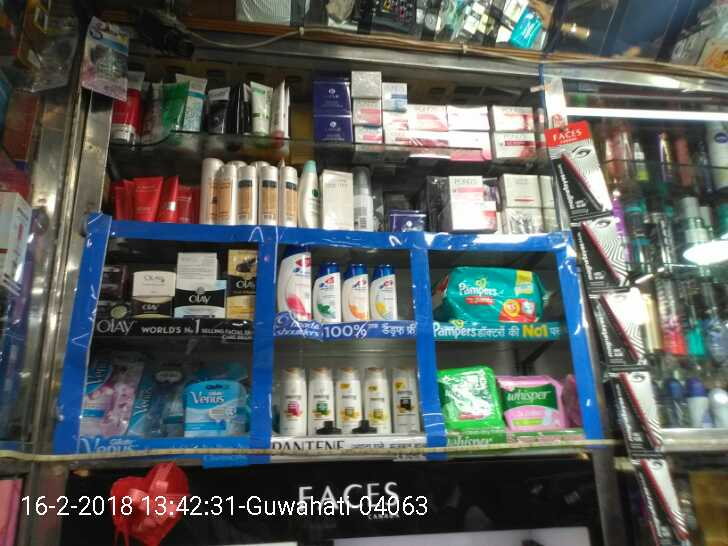venus: (84, 347, 143, 435), (143, 347, 184, 435), (188, 382, 246, 434)
